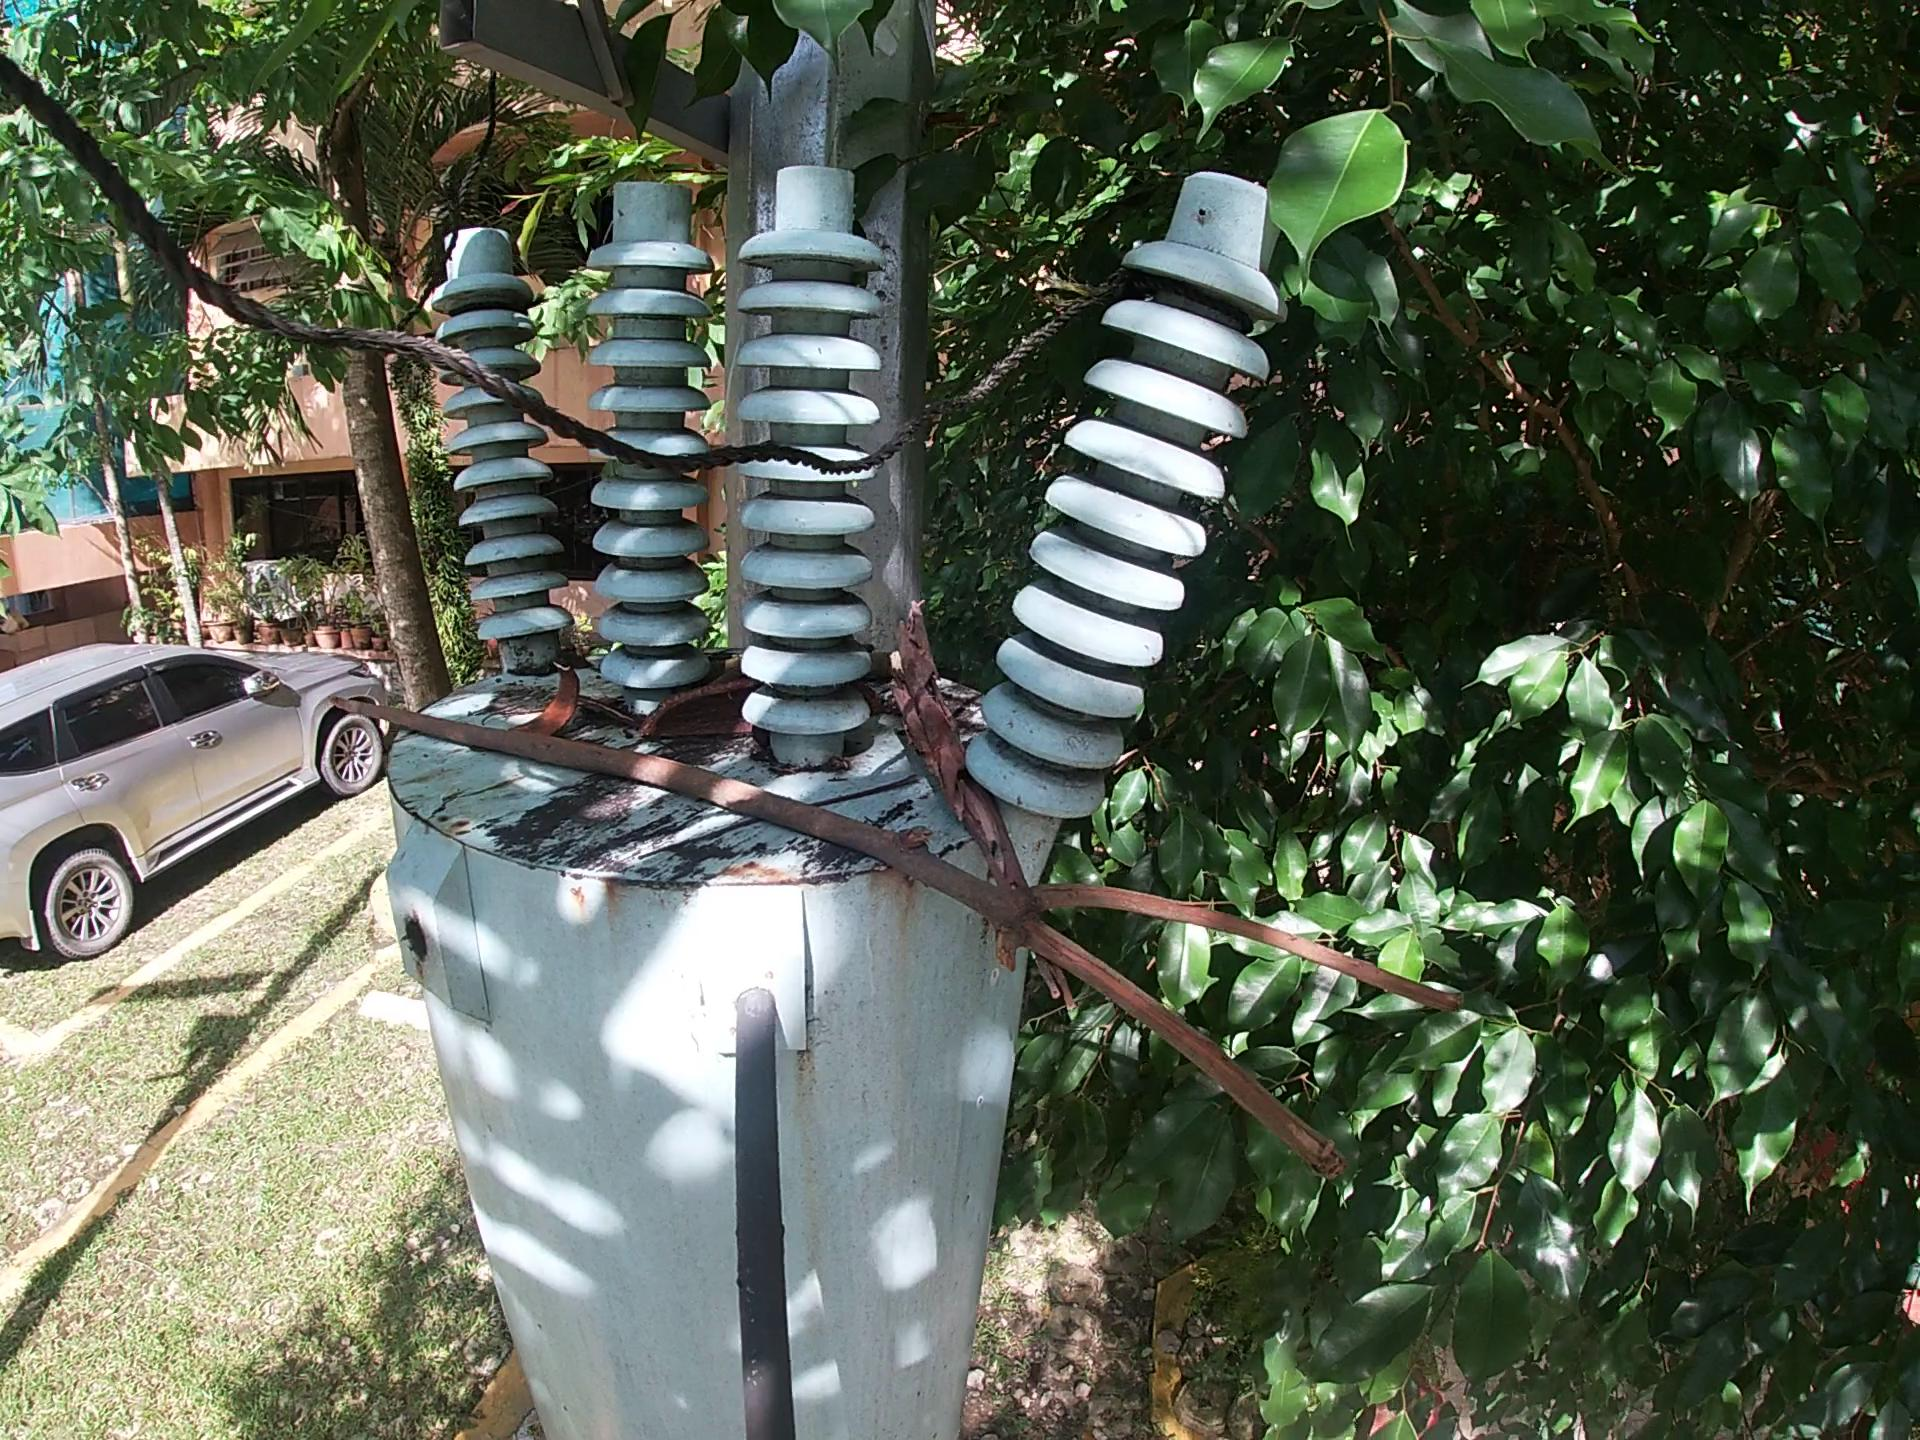mahogany fruit: (635, 678, 770, 744), (497, 659, 588, 740)
tree branch: (321, 687, 1469, 1189), (884, 601, 1092, 1032)
